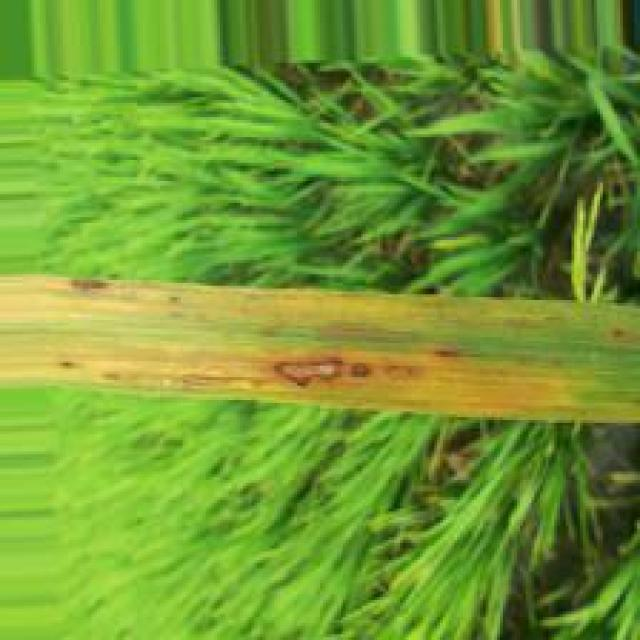Leaf_Blast: (1, 348, 573, 417)
